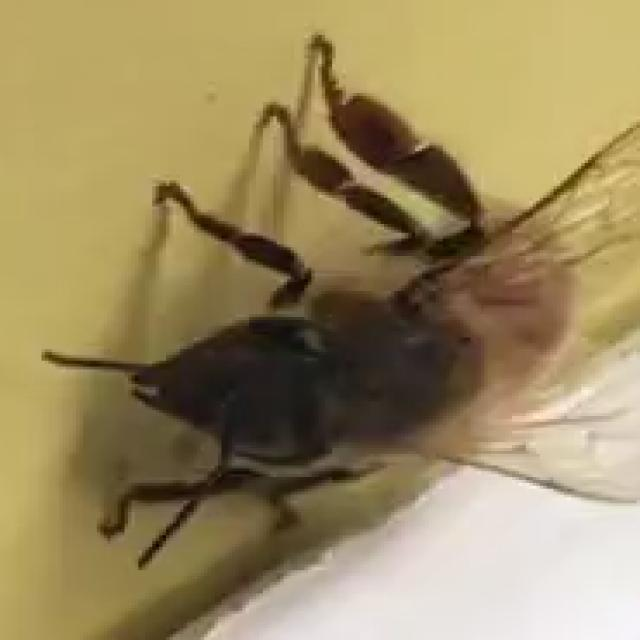honeybee: (114, 87, 640, 573)
